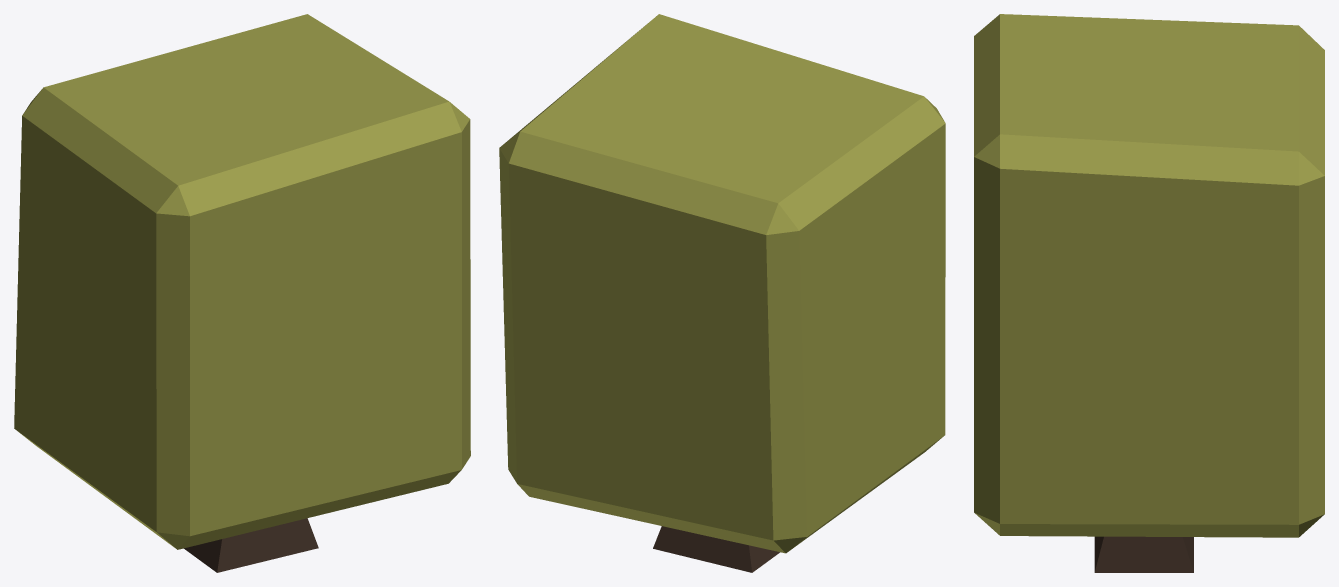
Rendered from Hedge1_a_LP_LOD0.FBX.
3 renders of one model, left to right at view 1: azimuth 30°, elevation 25°; view 2: azimuth 150°, elevation 25°; view 3: azimuth 270°, elevation 25°, orthographic. The views are drawn at different scales.
Parts seen in each view (by area): view 1: Hedge1_a_LP_LOD0; view 2: Hedge1_a_LP_LOD0; view 3: Hedge1_a_LP_LOD0.
Boxes of the visible parts, box(x1,y1,x2,y2) form: Hedge1_a_LP_LOD0: box(14, 14, 470, 572); Hedge1_a_LP_LOD0: box(499, 14, 945, 572); Hedge1_a_LP_LOD0: box(974, 14, 1324, 572).
Size of the model in its own units: 1.3 by 1.81 by 1.19.
